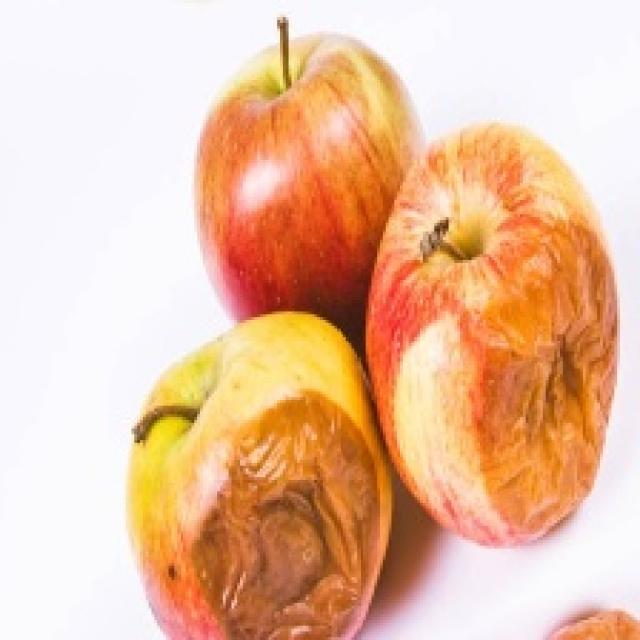100-_ripeness: (192, 31, 370, 312)
rotten_apple: (373, 132, 615, 538), (129, 317, 374, 640)
